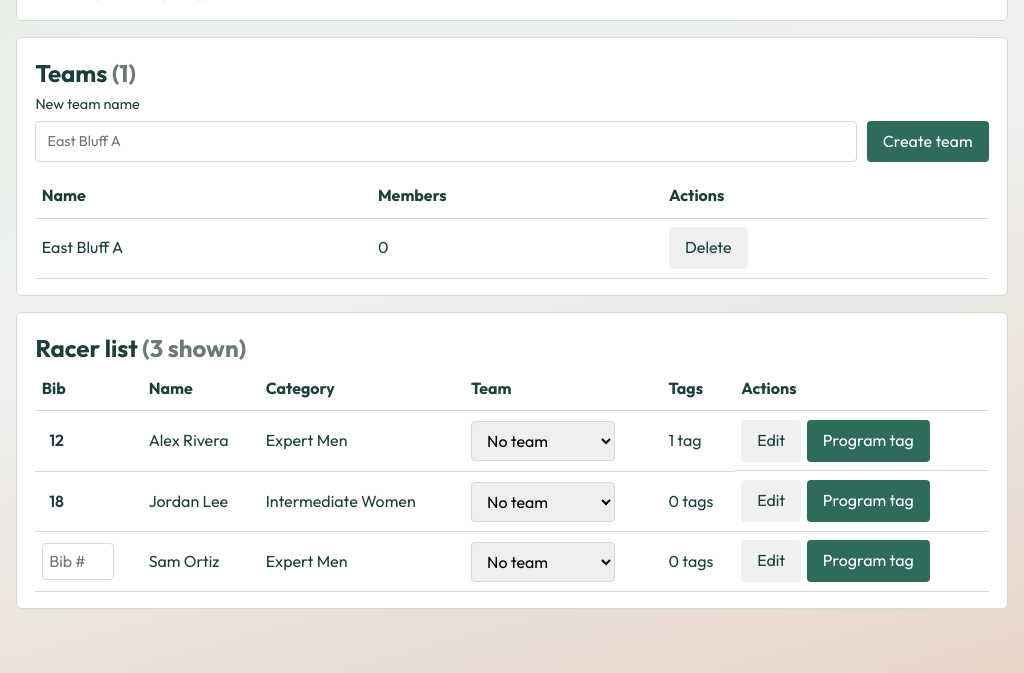
it: Racers.vue › programs tag via writeTag without silicon UID input
The width and height of the screenshot is (1024, 673).
(page scrolled)
Step 1. Click the button with test id "program-tag" in the row of "Jordan Lee" → {"x": 868, "y": 501}, box [807,480,930,522]
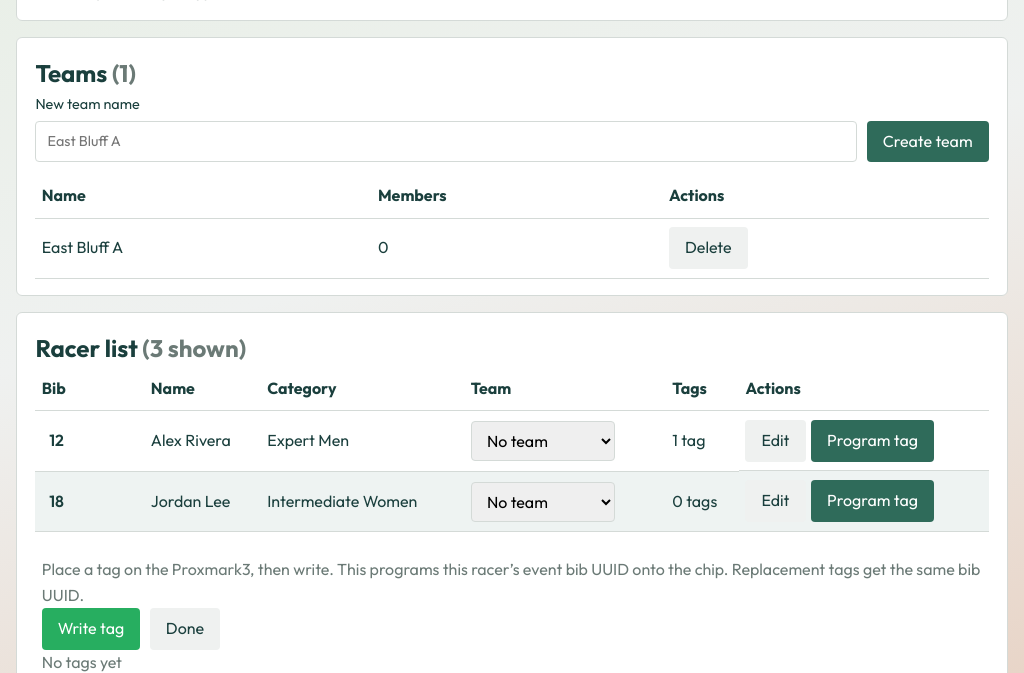
Expected: the button with test id "program-tag-write" is enabled
Step 2. Click the button with test id "program-tag-write" → {"x": 91, "y": 629}, box [42,608,140,650]
(page scrolled)
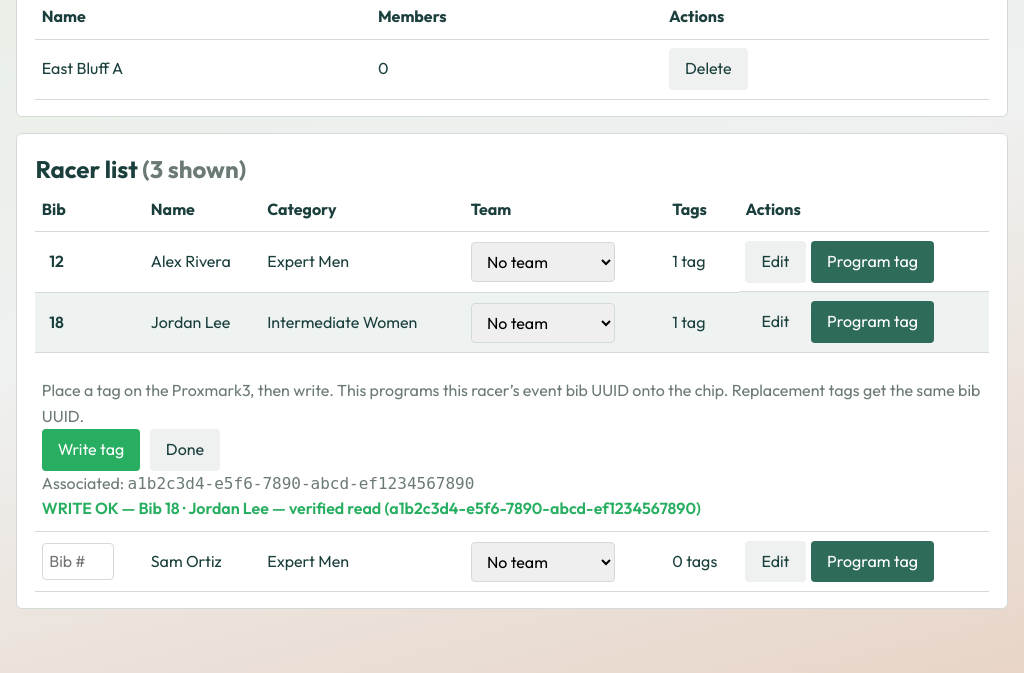
Expected: the element with test id "program-tag-list" shows "a1b2c3d4-e5f6-7890-abcd-ef1234567890", [128,474,474,493]
